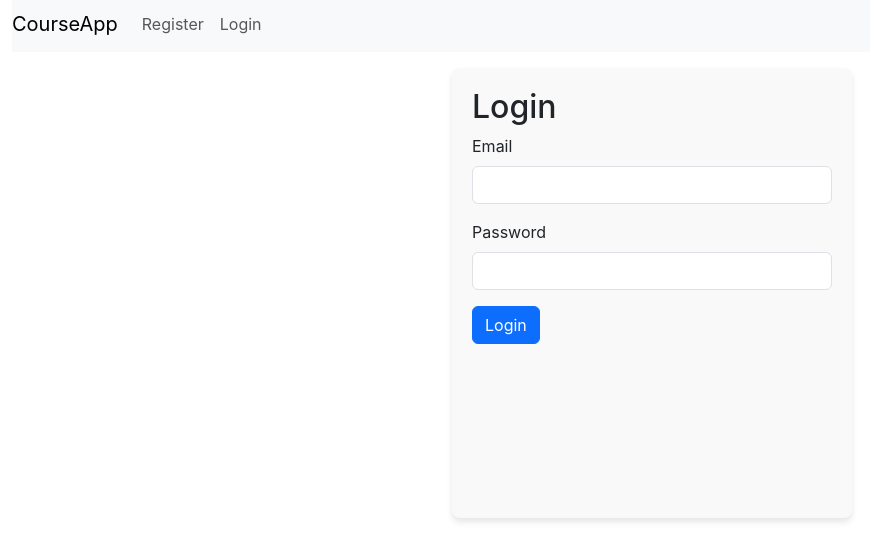
Test: User Login › should show error with invalid credentials
In the field with id "email": point(652, 185) [472,166,832,204], type "nonexistentuser@example.com"
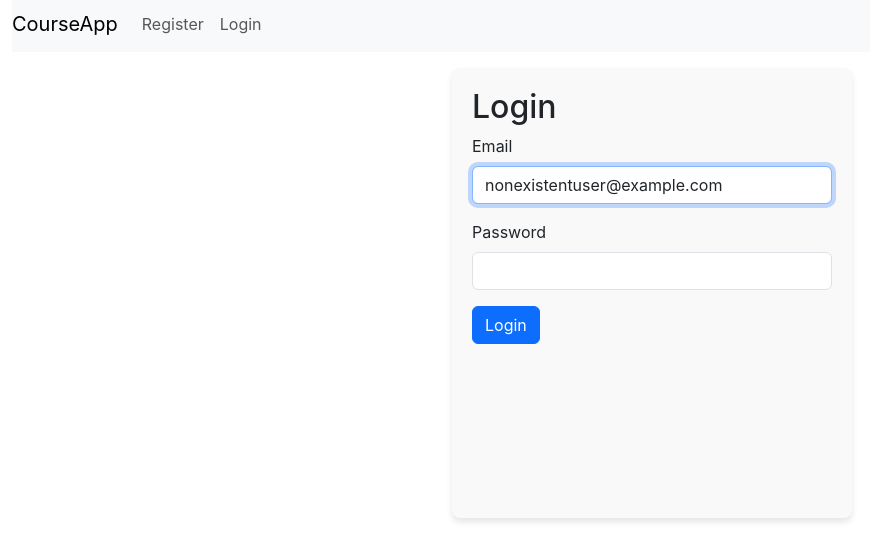
In the password field labelled "Password": point(652, 271) [472,252,832,290], type "wrongpassword"
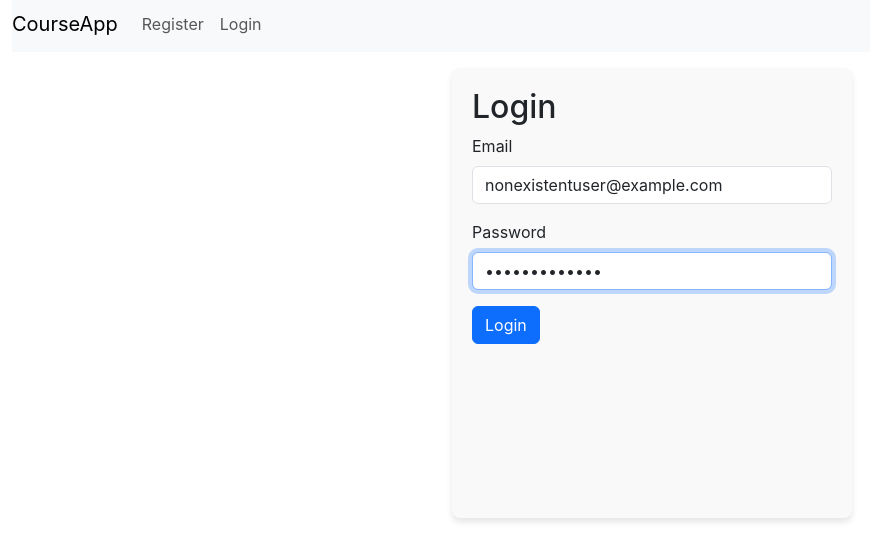
Click the submit button: point(506, 325) [472,306,540,344]
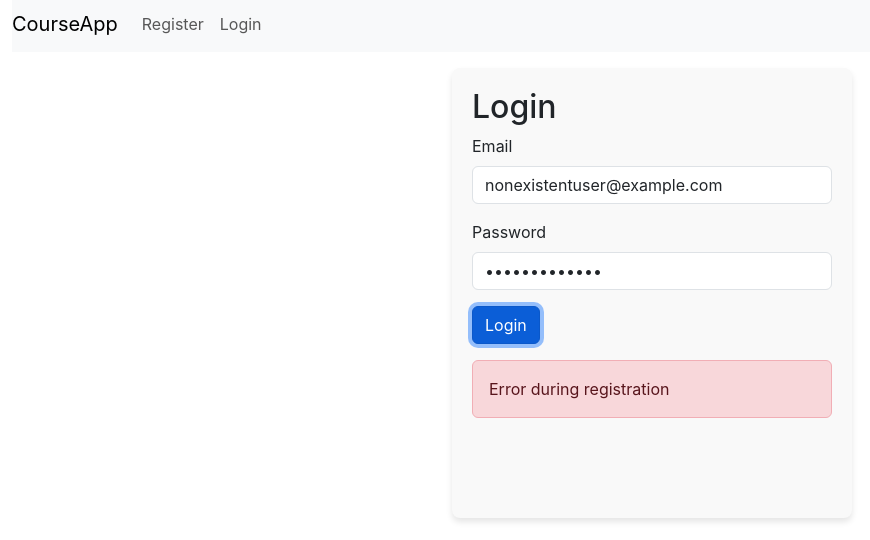
Now the text "Error during registration" is shown, box [472,360,832,418]
